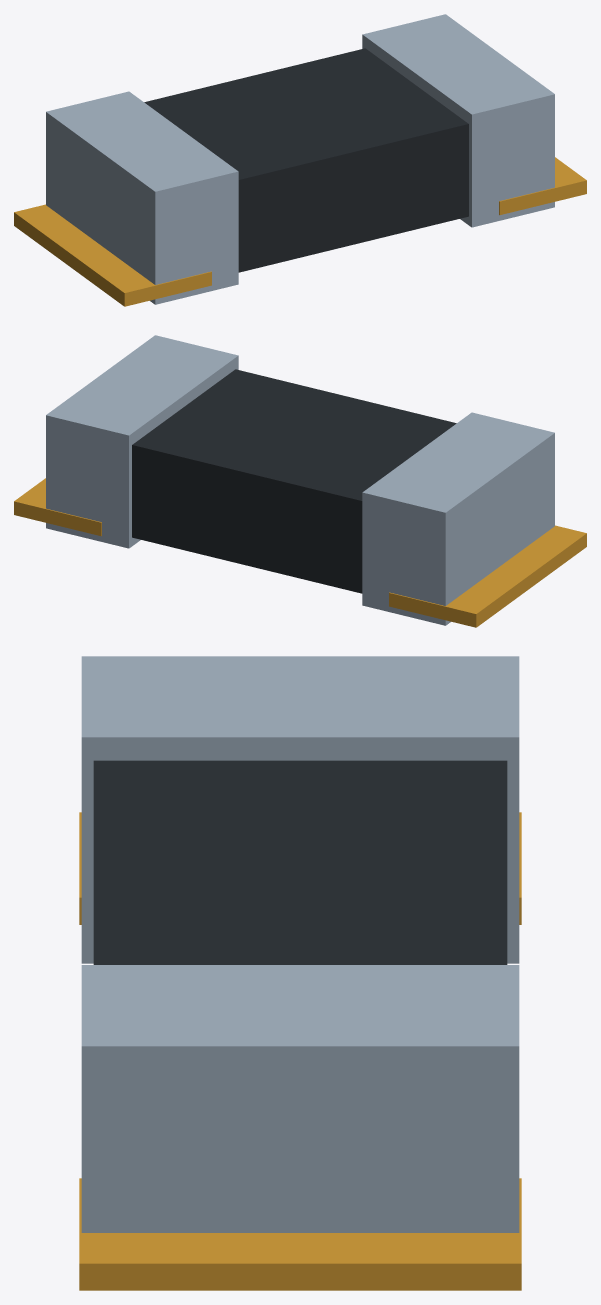
The model's file is 18_L96_R9_Resistor.fbx.
3 renders of one model, top to bottom at view 1: azimuth 30°, elevation 25°; view 2: azimuth 150°, elevation 25°; view 3: azimuth 270°, elevation 25°, orthographic. The views are drawn at different scales.
Visible parts, largest first — view 1: R9_000_Precision_SMD_Body, R9_001_Electroplated_EndCap, R9_003_Electroplated_EndCap, R9_002_Pad_Solder_Fillet, R9_004_Pad_Solder_Fillet; view 2: R9_000_Precision_SMD_Body, R9_001_Electroplated_EndCap, R9_003_Electroplated_EndCap, R9_002_Pad_Solder_Fillet, R9_004_Pad_Solder_Fillet; view 3: R9_003_Electroplated_EndCap, R9_000_Precision_SMD_Body, R9_001_Electroplated_EndCap, R9_004_Pad_Solder_Fillet.
Part boxes in pixels (left/top/right/bottom): R9_000_Precision_SMD_Body: left=144, top=48, right=468, bottom=272; R9_001_Electroplated_EndCap: left=46, top=91, right=238, bottom=304; R9_003_Electroplated_EndCap: left=362, top=14, right=554, bottom=227; R9_002_Pad_Solder_Fillet: left=14, top=204, right=211, bottom=306; R9_004_Pad_Solder_Fillet: left=499, top=157, right=586, bottom=215; R9_000_Precision_SMD_Body: left=132, top=369, right=456, bottom=593; R9_001_Electroplated_EndCap: left=362, top=412, right=554, bottom=625; R9_003_Electroplated_EndCap: left=46, top=335, right=238, bottom=548; R9_002_Pad_Solder_Fillet: left=389, top=525, right=586, bottom=627; R9_004_Pad_Solder_Fillet: left=14, top=478, right=101, bottom=536; R9_003_Electroplated_EndCap: left=81, top=965, right=519, bottom=1232; R9_000_Precision_SMD_Body: left=93, top=760, right=507, bottom=964; R9_001_Electroplated_EndCap: left=81, top=656, right=519, bottom=963; R9_004_Pad_Solder_Fillet: left=79, top=1178, right=521, bottom=1290.
Bounding box in the file's own units: 0.00355 × 0.00083 × 0.00147.
